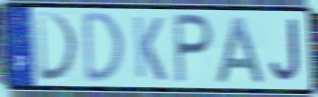A: (214, 14, 268, 86)
D: (34, 10, 82, 84), (82, 11, 126, 86)
J: (268, 17, 301, 85)
K: (131, 14, 168, 83)
P: (173, 11, 215, 87)
